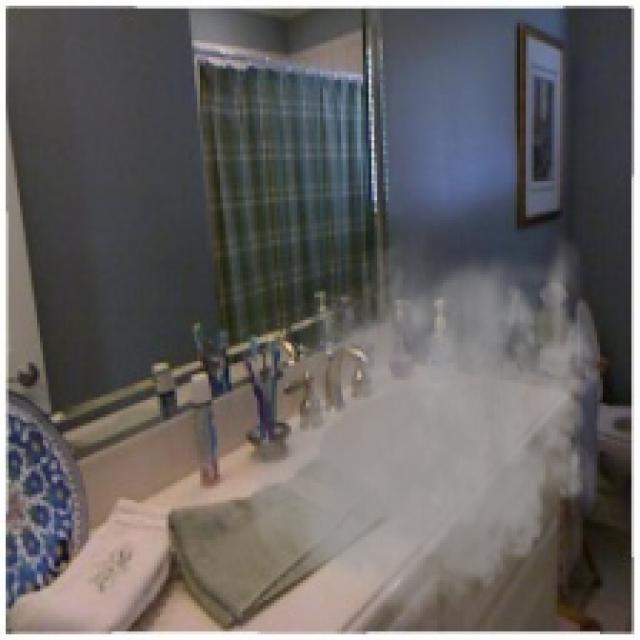smoke: (237, 223, 612, 637)
